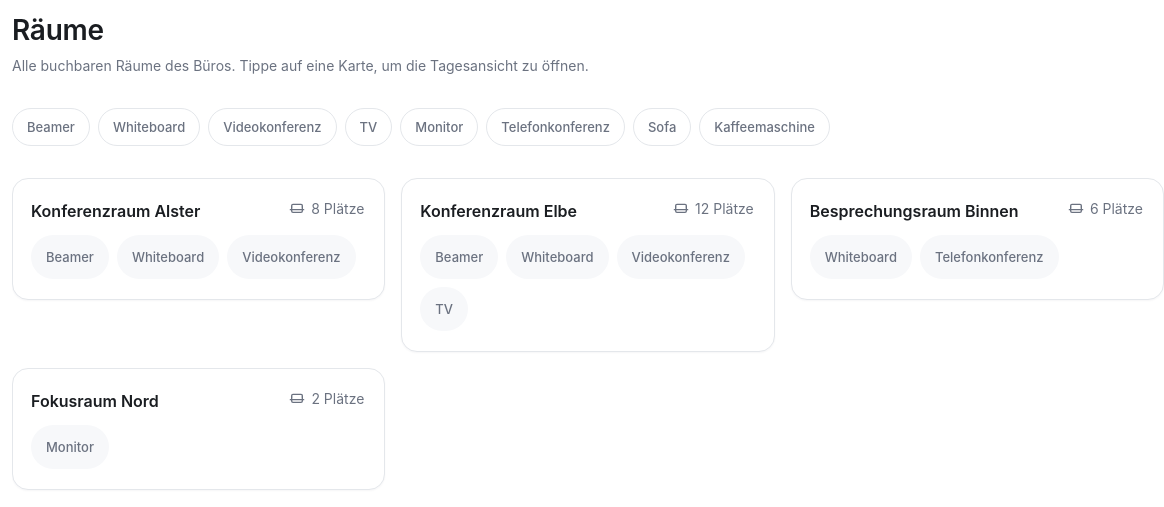
Test: RoomList › shows the filter-empty state only after a chip is selected
Expected: the text "Konferenzraum Alster" is shown, [31,199,200,223]
Expected: the text "Kein Raum passt zu dieser Ausstattung." is not shown
What coordinates should you click on to do the following:
click the button "Sofa"
I would click on:
 (662, 127)
Its box is [633,108,691,146].
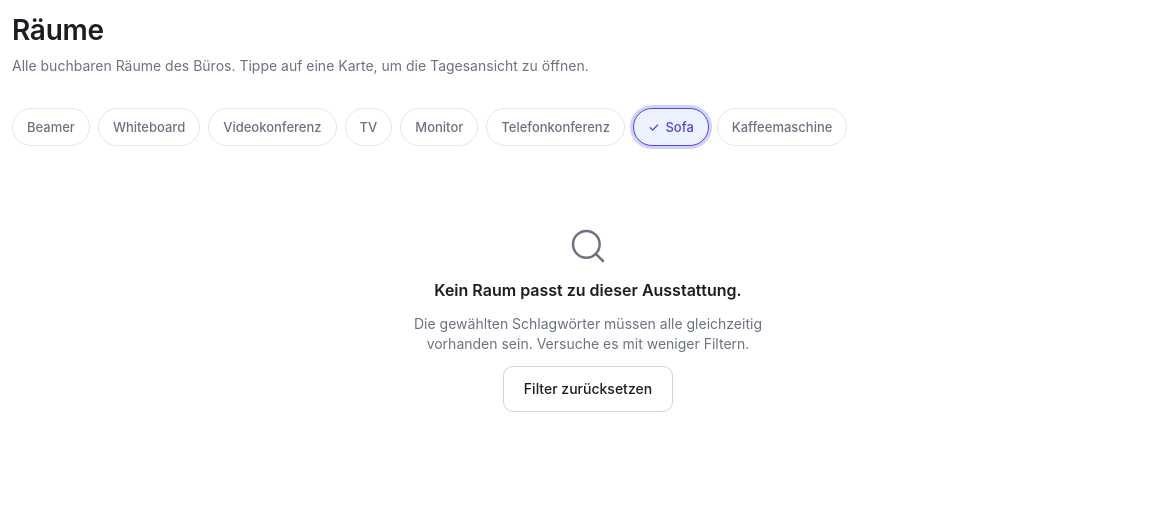
Expected: the text "Kein Raum passt zu dieser Ausstattung." is shown, [434,278,742,302]
Expected: the button "Filter zurücksetzen" is shown, [503,366,673,412]
